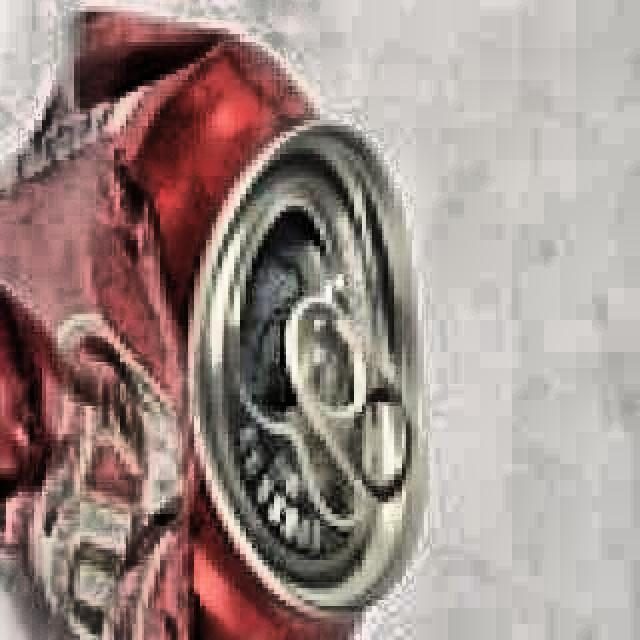metal: (0, 2, 426, 640)
